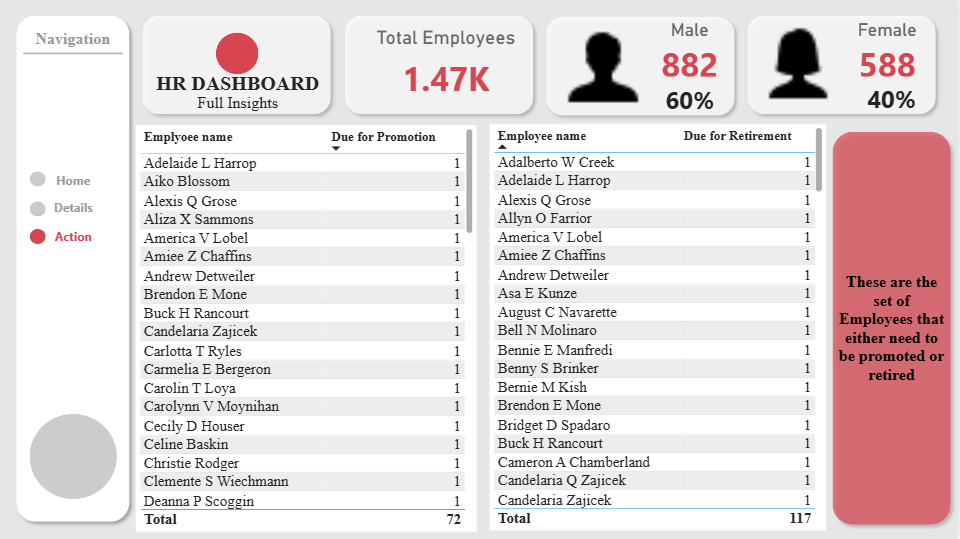

Layout of this report page (visuals, bound fields, positions):
{"tool":"powerbi","page":{"name":"Action","canvas":[1280,720],"ordinal":2},"visuals":[{"type":"shape","box":[16.5,12.3,168.8,693],"z":0},{"type":"shape","box":[185.2,12.3,269,149.6],"z":1000},{"type":"shape","box":[454.2,12.3,269,149.6],"z":2000},{"type":"shape","box":[723.2,13.7,269,149.6],"z":3000},{"type":"shape","box":[992.1,12.3,269,149.6],"z":4000},{"type":"shape","box":[1104.6,167.4,175.6,542],"z":5000},{"type":"cardVisual","title":"Total Employees","fields":{"Data":["All Measures.Total Employees"]},"box":[475.7,35.7,247.1,107.1],"z":6000},{"type":"cardVisual","title":"Female","fields":{"Data":["All Measures.Female"]},"box":[1115.7,25.7,144.3,94.3],"z":7000},{"type":"cardVisual","title":"Male","fields":{"Data":["All Measures.Male"]},"box":[857.1,25.7,134.3,94.3],"z":8000},{"type":"cardVisual","title":"Total Employees","fields":{"Data":["All Measures.% male"]},"box":[857.1,98.6,134.3,65.7],"z":9000},{"type":"cardVisual","title":"Total Employees","fields":{"Data":["All Measures.% female"]},"box":[1127.1,91.4,132.9,75.7],"z":10000},{"type":"textbox","box":[201.4,91.4,238.6,50],"z":11000},{"type":"textbox","box":[201.4,120,238.6,42.9],"z":12000},{"type":"shape","box":[291.4,42.9,57.1,55.7],"z":13000},{"type":"image","box":[1000,27.1,137.1,115.7],"z":14000},{"type":"image","box":[740,31.4,137.1,115.7],"z":15000},{"type":"tableEx","fields":{"Values":["Data.HR employee data.Emplyee name","All Measures.Due for Promotion"]},"box":[185.2,167.4,454.2,542],"z":16000},{"type":"tableEx","fields":{"Values":["Data.HR employee data.Emplyee name","All Measures.Retreanched"]},"box":[655.9,164.7,448.7,542],"z":17000},{"type":"shape","box":[43.9,229.2,22,20.6],"z":18000},{"type":"shape","box":[43.9,267.6,22,20.6],"z":19000},{"type":"shape","box":[43.9,304.6,22,20.6],"z":20000},{"type":"shape","box":[43.9,551.6,116.6,113.9],"z":21000},{"type":"textbox","box":[16.5,35.7,168.8,43.9],"z":22000},{"type":"shape","box":[35.7,64.5,133.1,12.3],"z":23000},{"type":"actionButton","box":[52.1,295,100.2,39.8],"z":24000},{"type":"actionButton","box":[52.1,256.6,100.2,39.8],"z":25000},{"type":"actionButton","box":[52.1,219.6,100.2,39.8],"z":26000}]}

Visuals, with their boxes in screenshot pixels (x1, y1, x2, y2), scaled from the page's 1280x720 canvas onto the 960x539 screenshot:
shape: bbox=(12, 9, 139, 528)
shape: bbox=(139, 9, 341, 121)
shape: bbox=(341, 9, 542, 121)
shape: bbox=(542, 10, 744, 122)
shape: bbox=(744, 9, 946, 121)
shape: bbox=(828, 125, 959, 531)
"Total Employees" cardVisual: bbox=(357, 27, 542, 107)
"Female" cardVisual: bbox=(837, 19, 945, 90)
"Male" cardVisual: bbox=(643, 19, 744, 90)
"Total Employees" cardVisual: bbox=(643, 74, 744, 123)
"Total Employees" cardVisual: bbox=(845, 68, 945, 125)
textbox: bbox=(151, 68, 330, 106)
textbox: bbox=(151, 90, 330, 122)
shape: bbox=(219, 32, 261, 74)
image: bbox=(750, 20, 853, 107)
image: bbox=(555, 24, 658, 110)
tableEx - Data.HR employee data.Emplyee name x All Measures.Due for Promotion: bbox=(139, 125, 480, 531)
tableEx - Data.HR employee data.Emplyee name x All Measures.Retreanched: bbox=(492, 123, 828, 529)
shape: bbox=(33, 172, 49, 187)
shape: bbox=(33, 200, 49, 216)
shape: bbox=(33, 228, 49, 243)
shape: bbox=(33, 413, 120, 498)
textbox: bbox=(12, 27, 139, 60)
shape: bbox=(27, 48, 127, 57)
actionButton: bbox=(39, 221, 114, 251)
actionButton: bbox=(39, 192, 114, 222)
actionButton: bbox=(39, 164, 114, 194)
